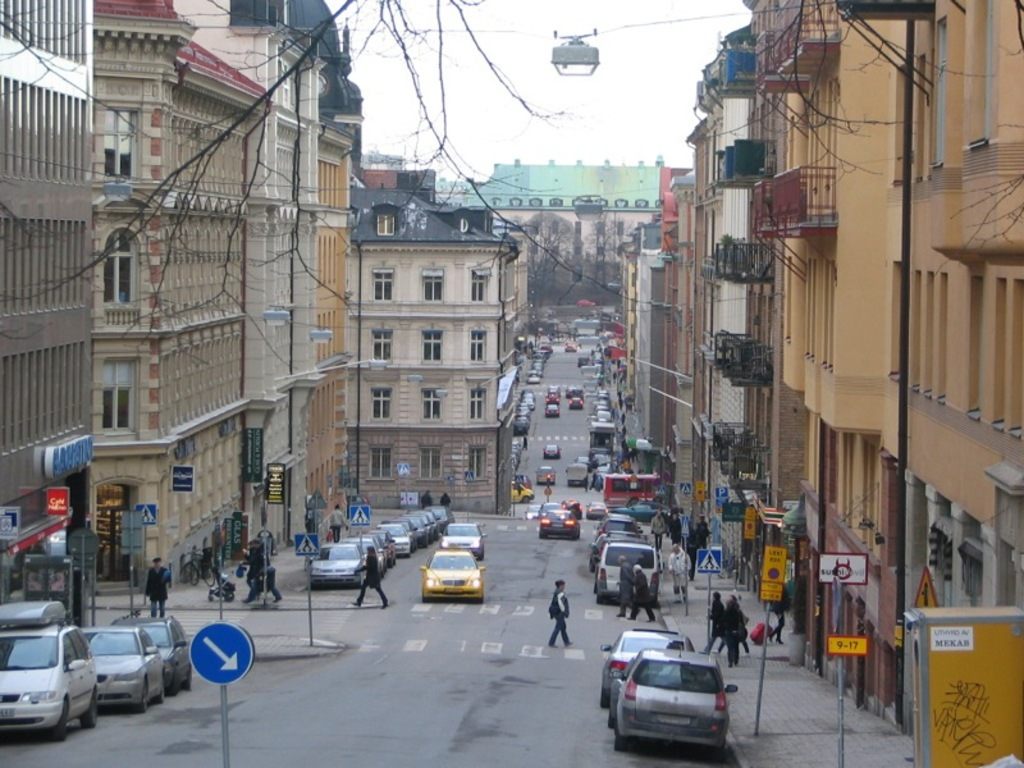cars: (610, 651, 735, 754), (1, 630, 84, 746), (601, 634, 686, 706), (93, 628, 160, 713), (114, 620, 192, 682), (594, 545, 654, 606), (421, 549, 480, 600), (310, 542, 372, 579), (589, 530, 633, 578), (442, 518, 479, 565), (540, 505, 577, 541), (368, 533, 391, 573), (393, 522, 413, 559), (409, 509, 428, 538), (596, 518, 633, 532), (428, 507, 441, 537), (547, 446, 552, 459)
